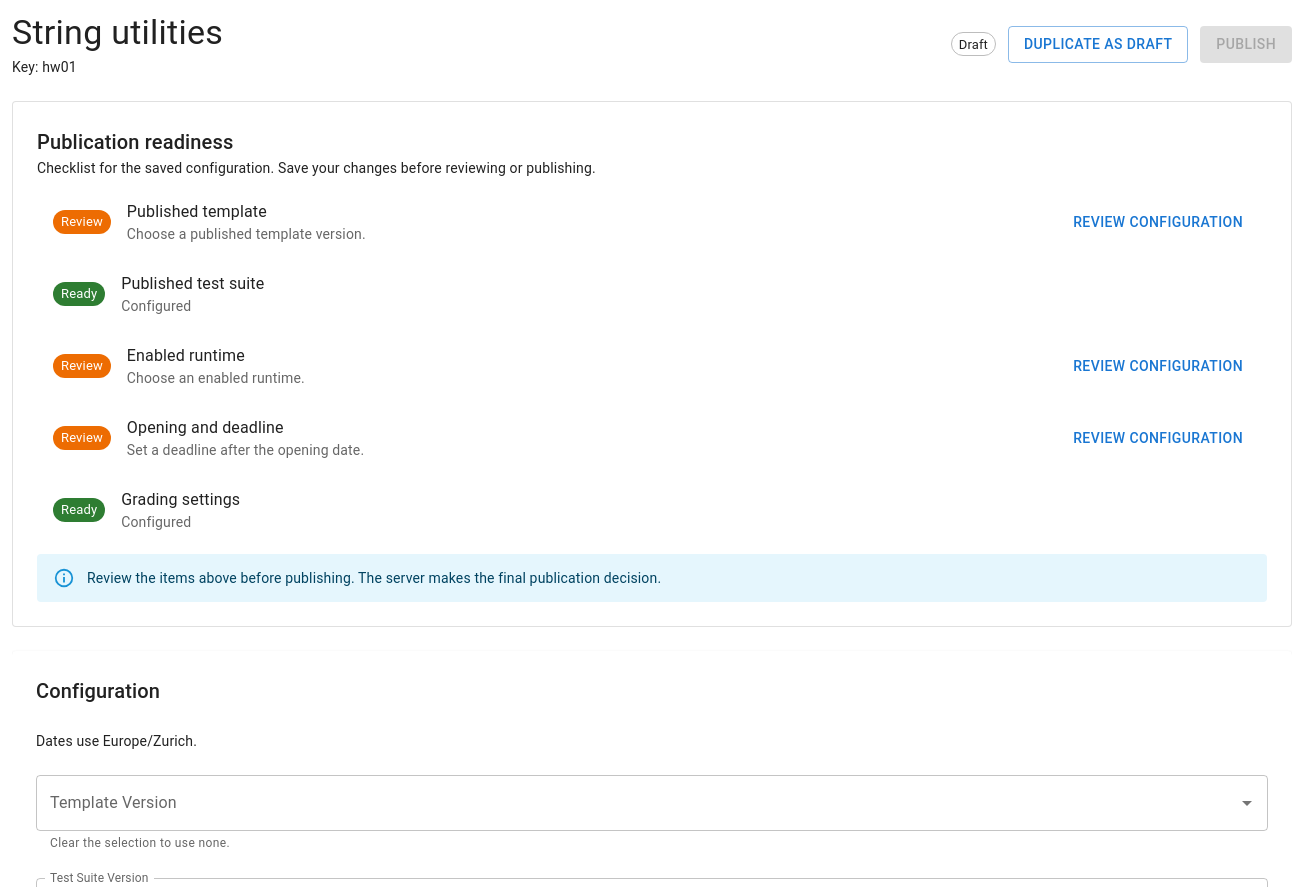
Test: names every missing prerequisite in the publish tooltip
Hover over the element "Publish": [1246, 44] box x1=1200 y1=26 x2=1292 y2=63
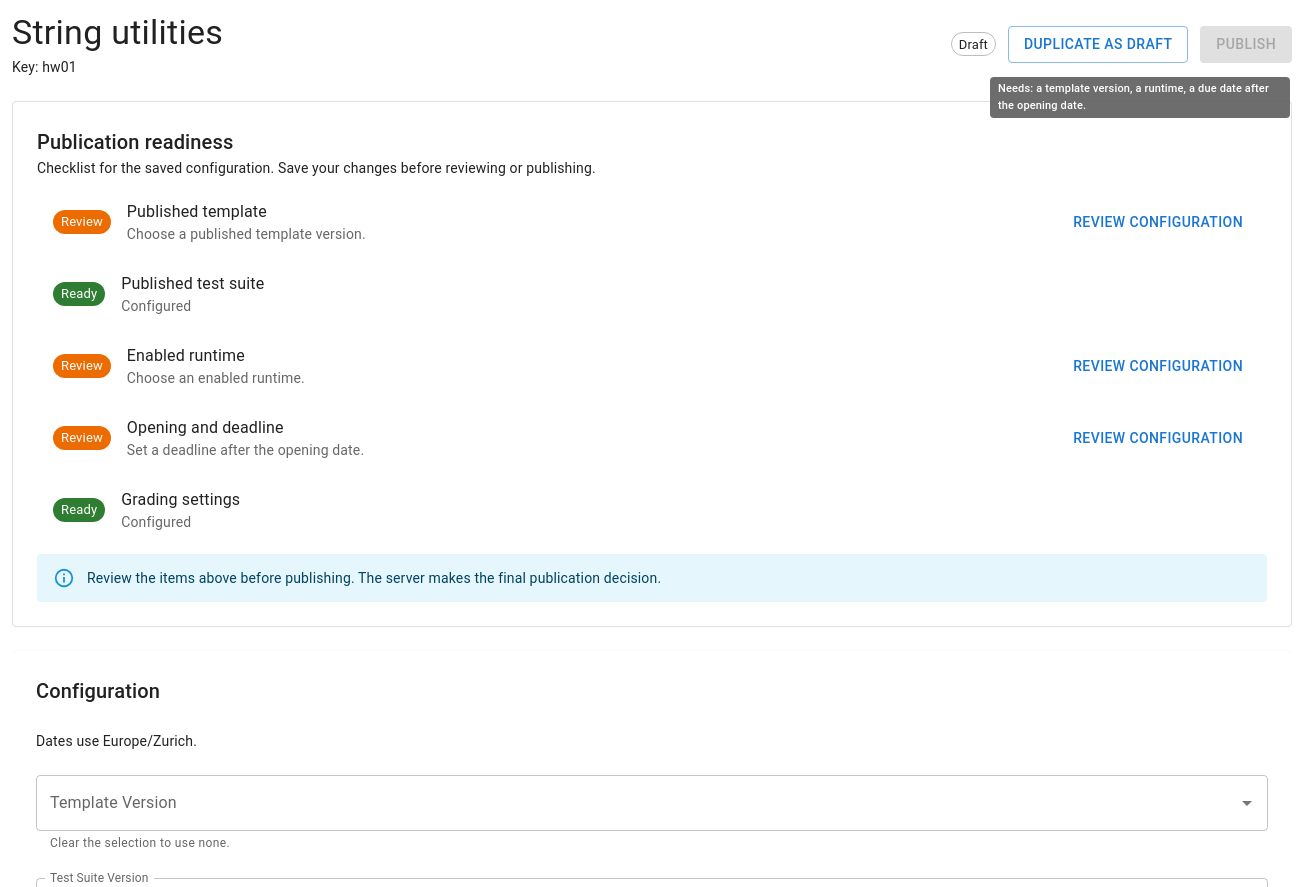
Result: the tooltip shows "a template version" at x1=998 y1=82 x2=1269 y2=112
Result: the tooltip shows "a runtime" at x1=998 y1=82 x2=1269 y2=112
Result: the tooltip shows "a due date after the opening date" at x1=998 y1=82 x2=1269 y2=112
